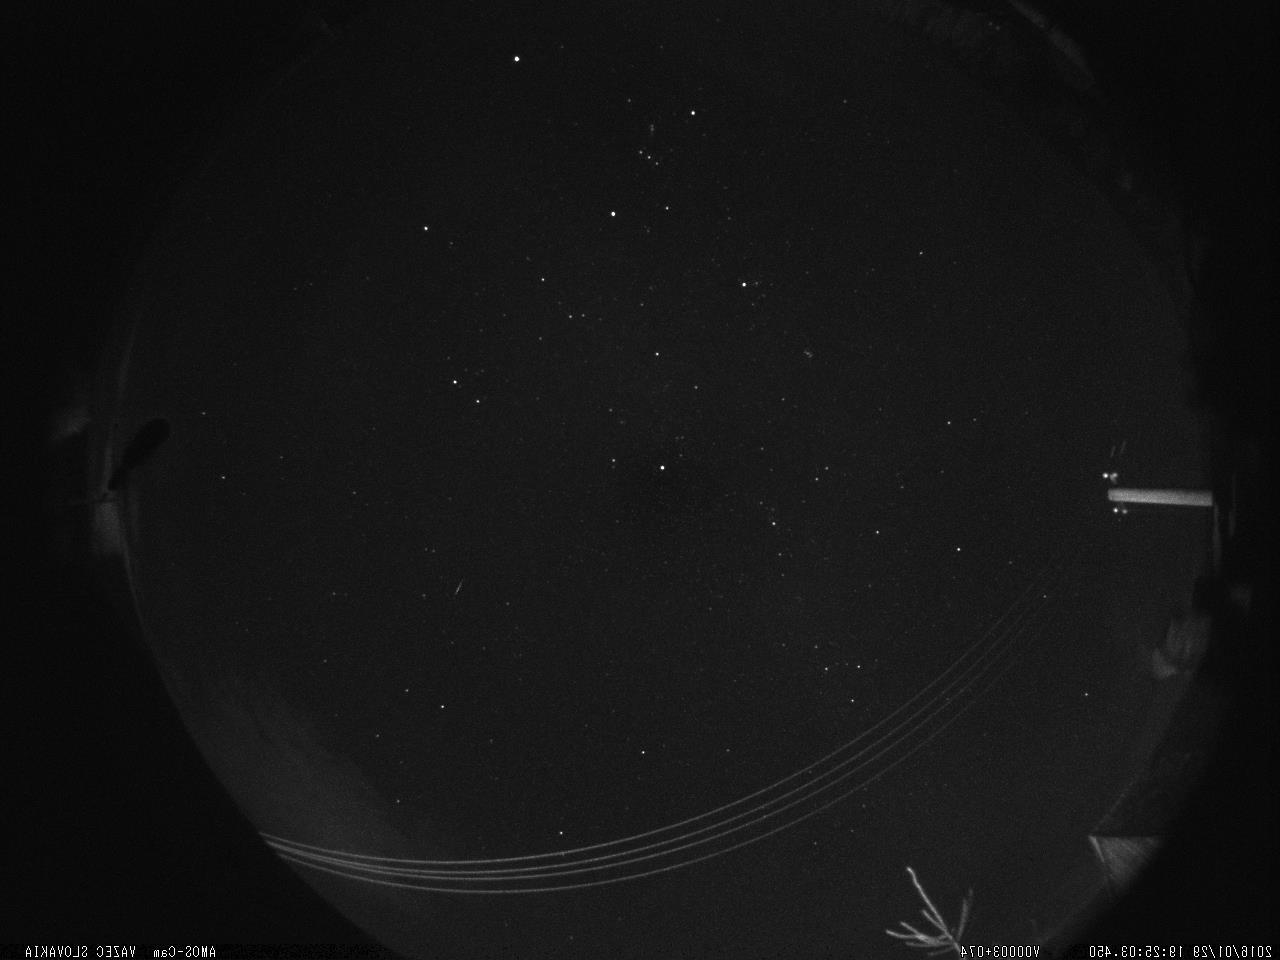meteor: (445, 573, 471, 602)
